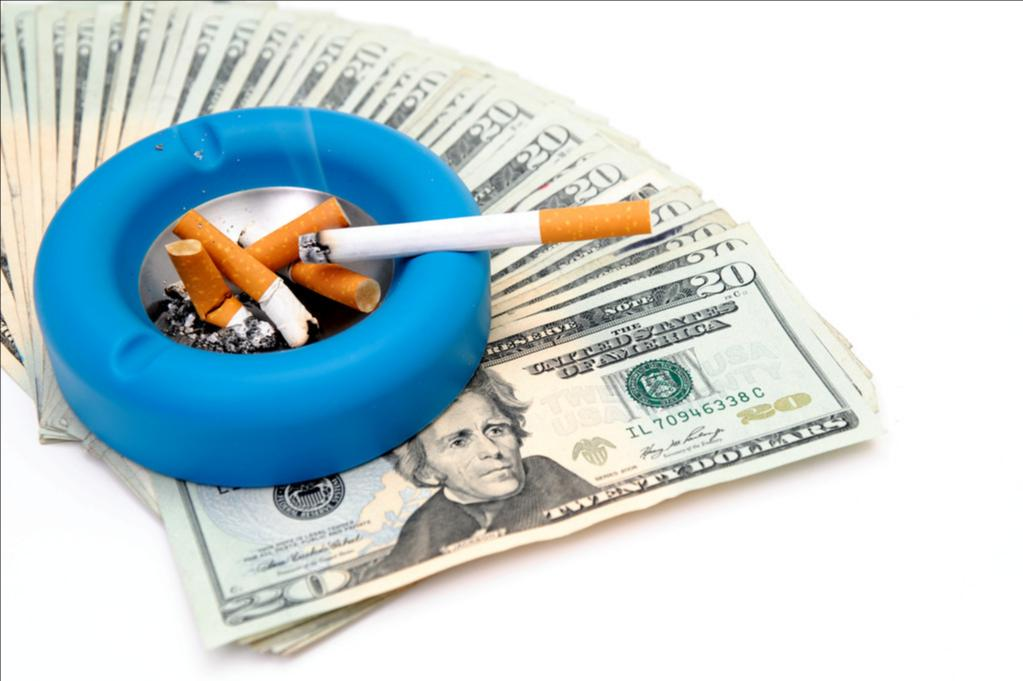Cigarette: (299, 197, 653, 266), (168, 210, 314, 350), (244, 196, 354, 265), (286, 252, 380, 312)
